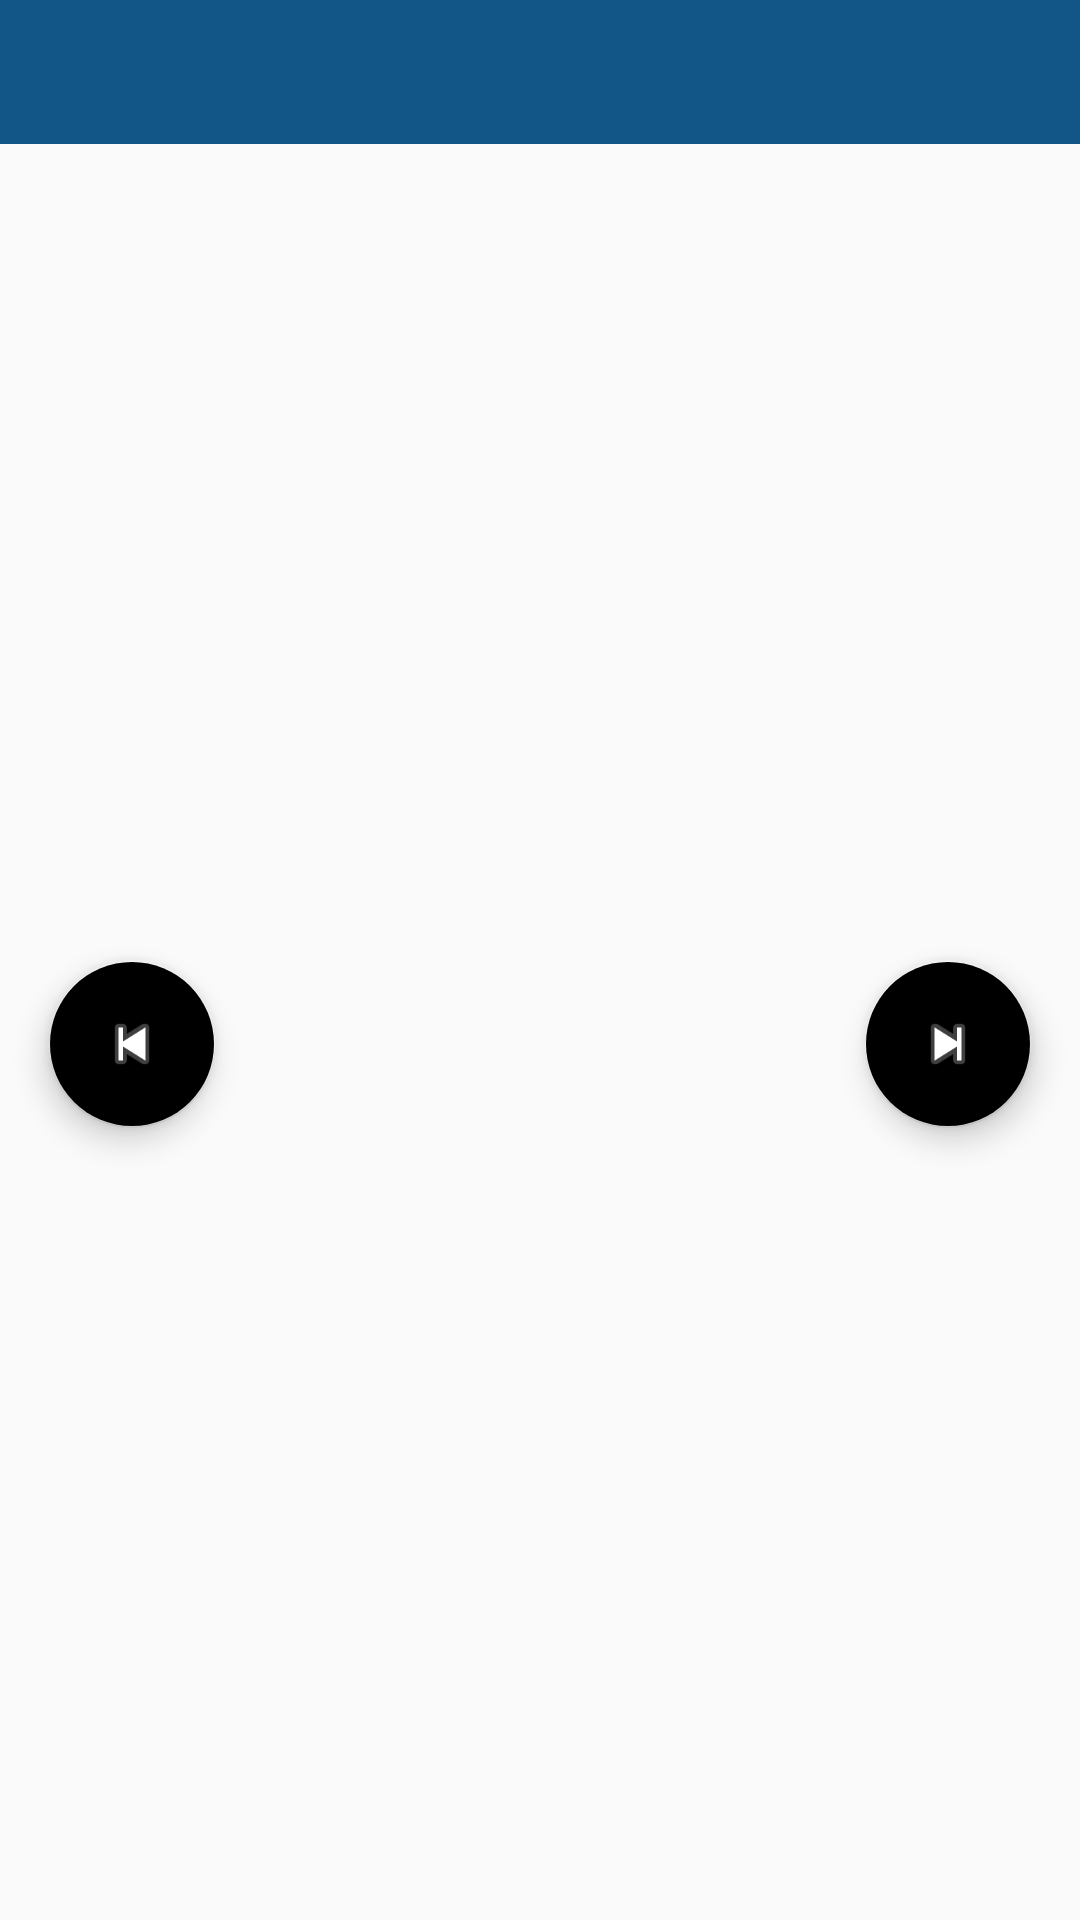

Where icons sit on this 1080w x 1920h app screen, as (x1, y1, x2, y2):
next: (866, 962, 1032, 1128)
previous: (48, 962, 214, 1128)
